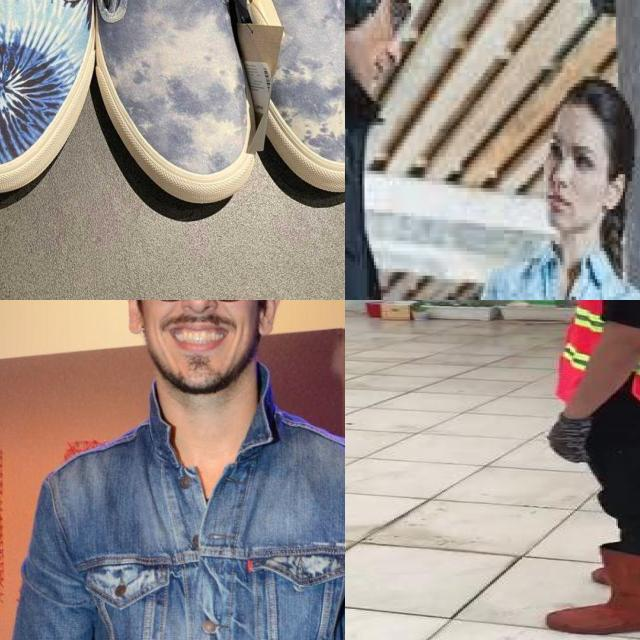No_Ear-Protection: (249, 300, 286, 341), (120, 300, 148, 339)
Sandals: (77, 0, 345, 213), (0, 0, 113, 219)
boots: (548, 542, 640, 635)
glasses: (378, 0, 413, 30)
hand_glove: (544, 413, 603, 464)
person: (464, 83, 640, 300), (532, 300, 640, 640), (345, 0, 448, 300)
vest: (543, 300, 640, 415)
